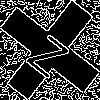Z: (25, 25, 77, 80)
